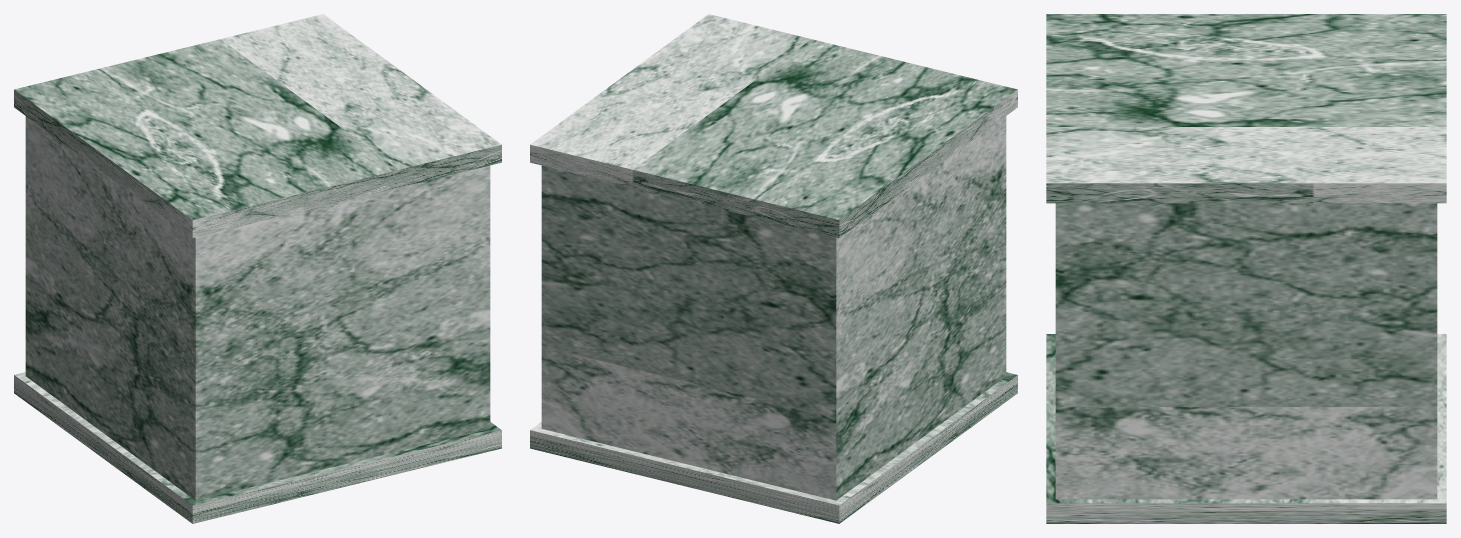
Rendered from Mostrador3.obj.
3 views of the same model, side by side, from view 1: azimuth 30°, elevation 25°; view 2: azimuth 150°, elevation 25°; view 3: azimuth 270°, elevation 25° (orthographic). The views are drawn at different scales.
Parts seen in each view (by area): view 1: Mostrador3; view 2: Mostrador3; view 3: Mostrador3.
Boxes of the visible parts, <box> form: Mostrador3: <box>14,14,501,523</box>; Mostrador3: <box>530,14,1017,523</box>; Mostrador3: <box>1046,14,1446,523</box>.
Size of the model in its own units: 0.3116 by 0.2926 by 0.3116.
1 material, 1 textured.
